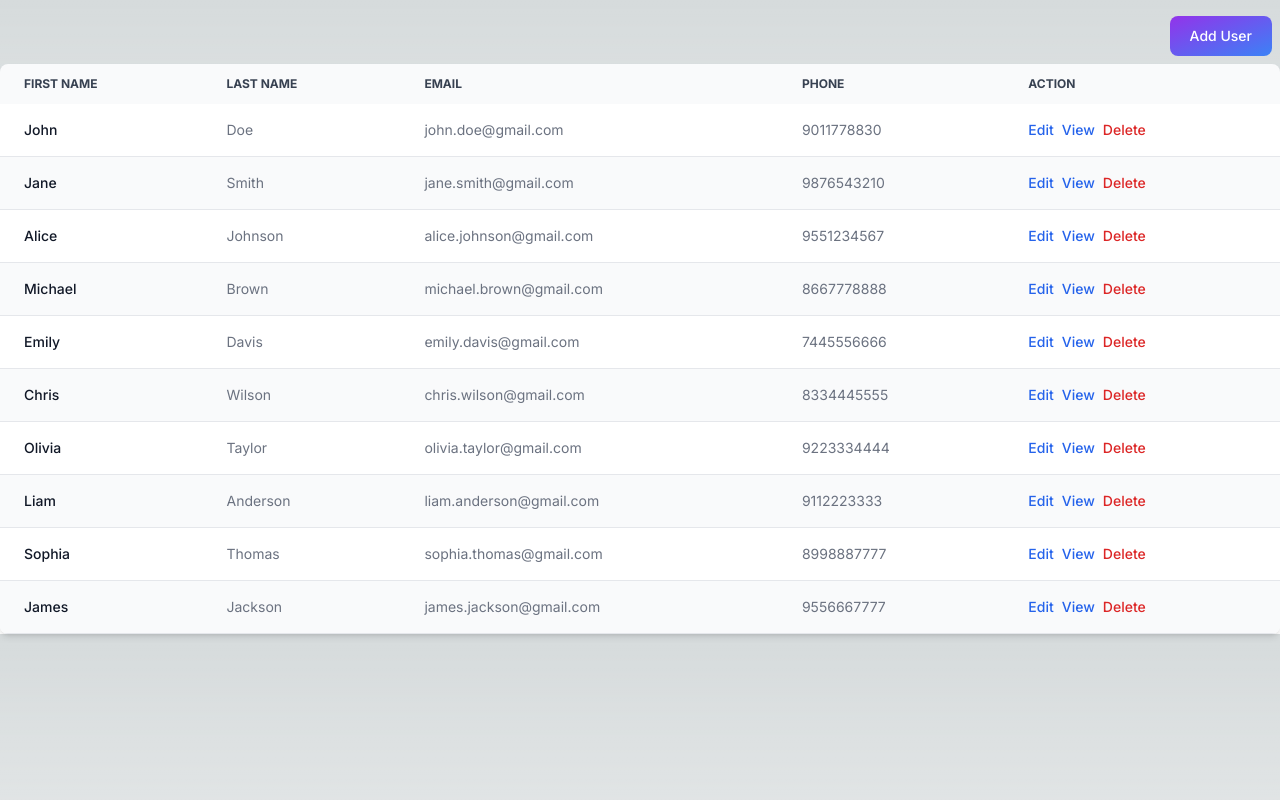
Scenario: UserTable Component › handles Add User button click
Click the button "Add User". click: [1221, 36]
box: top-left (1170, 16), bottom-right (1272, 56)
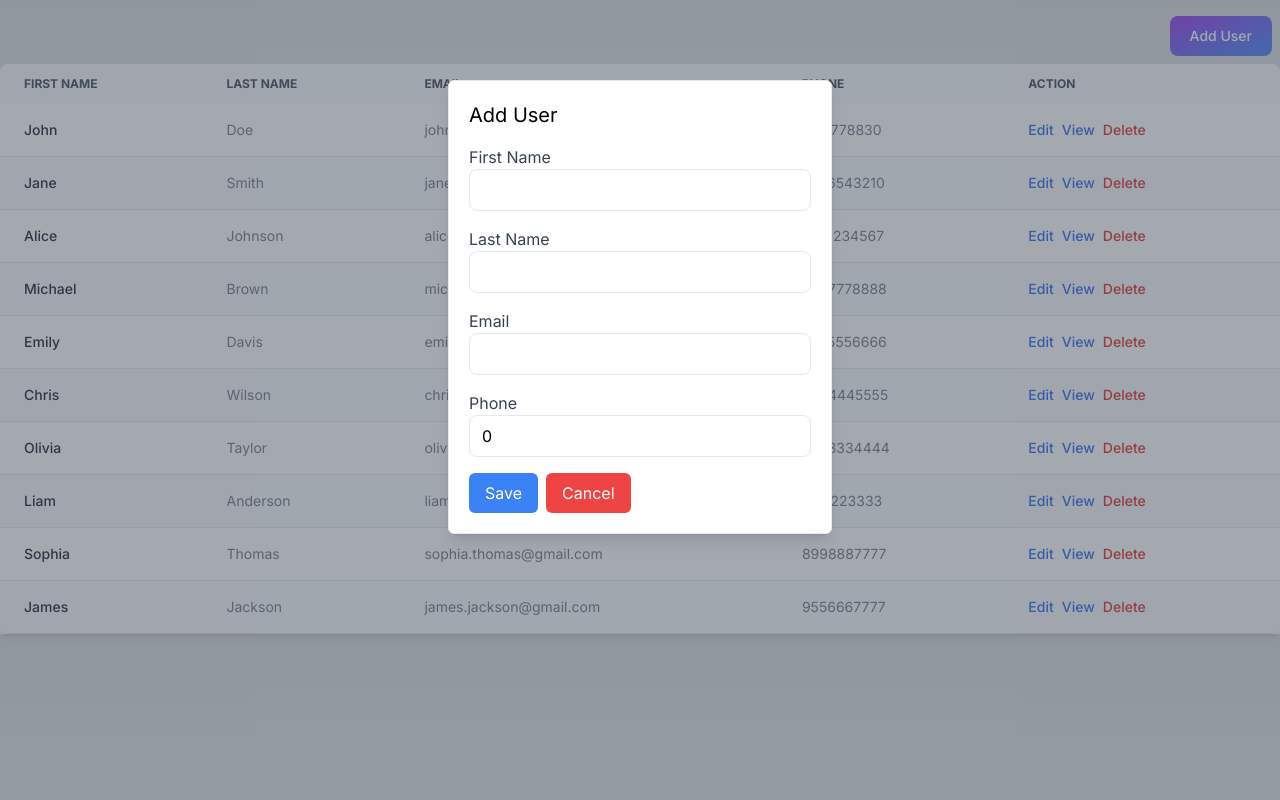
Expected: the heading "Add User" is shown, top-left (469, 103), bottom-right (558, 127)
